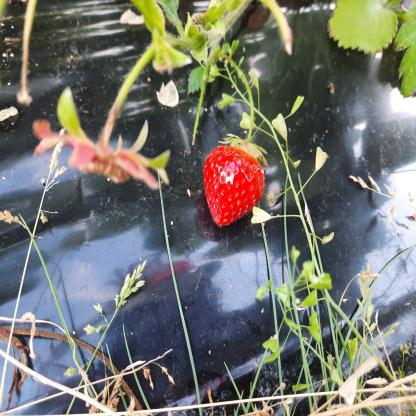ripe: (202, 146, 266, 228)
